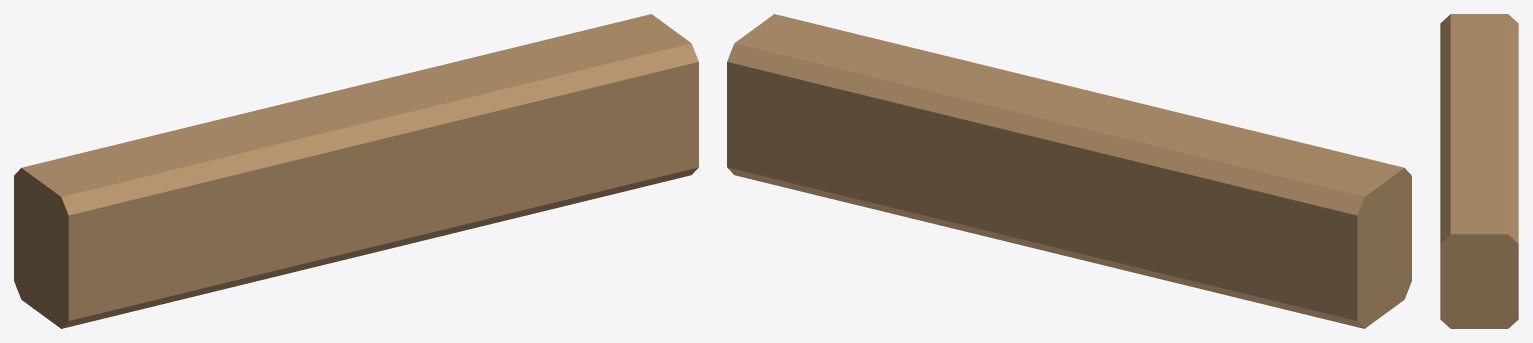
The model's file is beam.glb.
The picture shows the model from 3 angles, left to right: view 1: azimuth 30°, elevation 25°; view 2: azimuth 150°, elevation 25°; view 3: azimuth 270°, elevation 25°; orthographic projection. The views are drawn at different scales.
Parts seen in each view (by area): view 1: PART; view 2: PART; view 3: PART.
Boxes of the visible parts, x1=… form: PART: x1=14, y1=14, x2=698, y2=328; PART: x1=727, y1=14, x2=1411, y2=328; PART: x1=1440, y1=14, x2=1518, y2=328.
Size of the model in its own units: 1 by 0.2 by 0.15.
